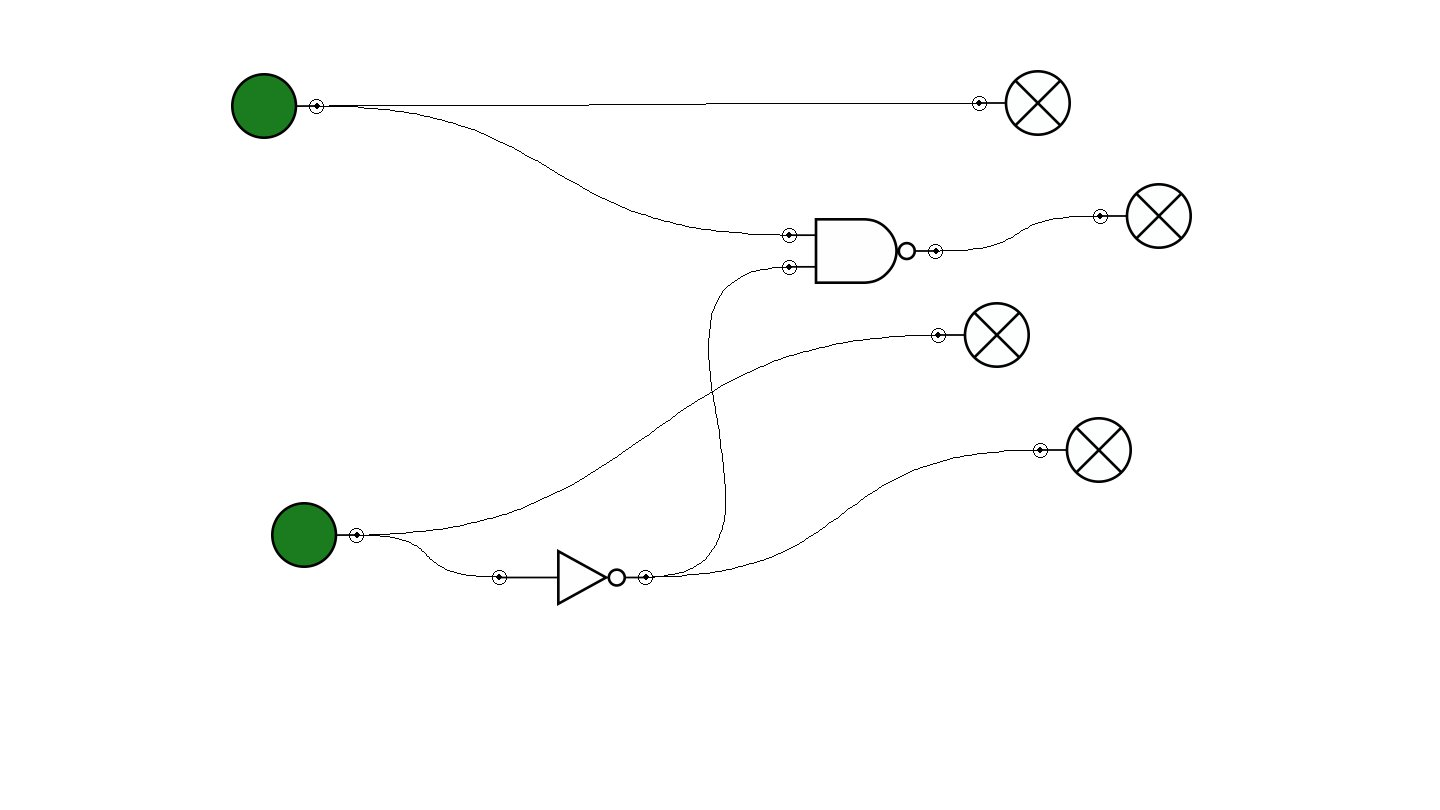bulb: (1093, 183, 1192, 249), (931, 302, 1030, 368), (1033, 417, 1132, 483), (972, 70, 1071, 136)
nand: (782, 218, 943, 284)
not: (492, 549, 653, 606)
switch_True: (231, 73, 324, 139), (271, 502, 364, 568)
